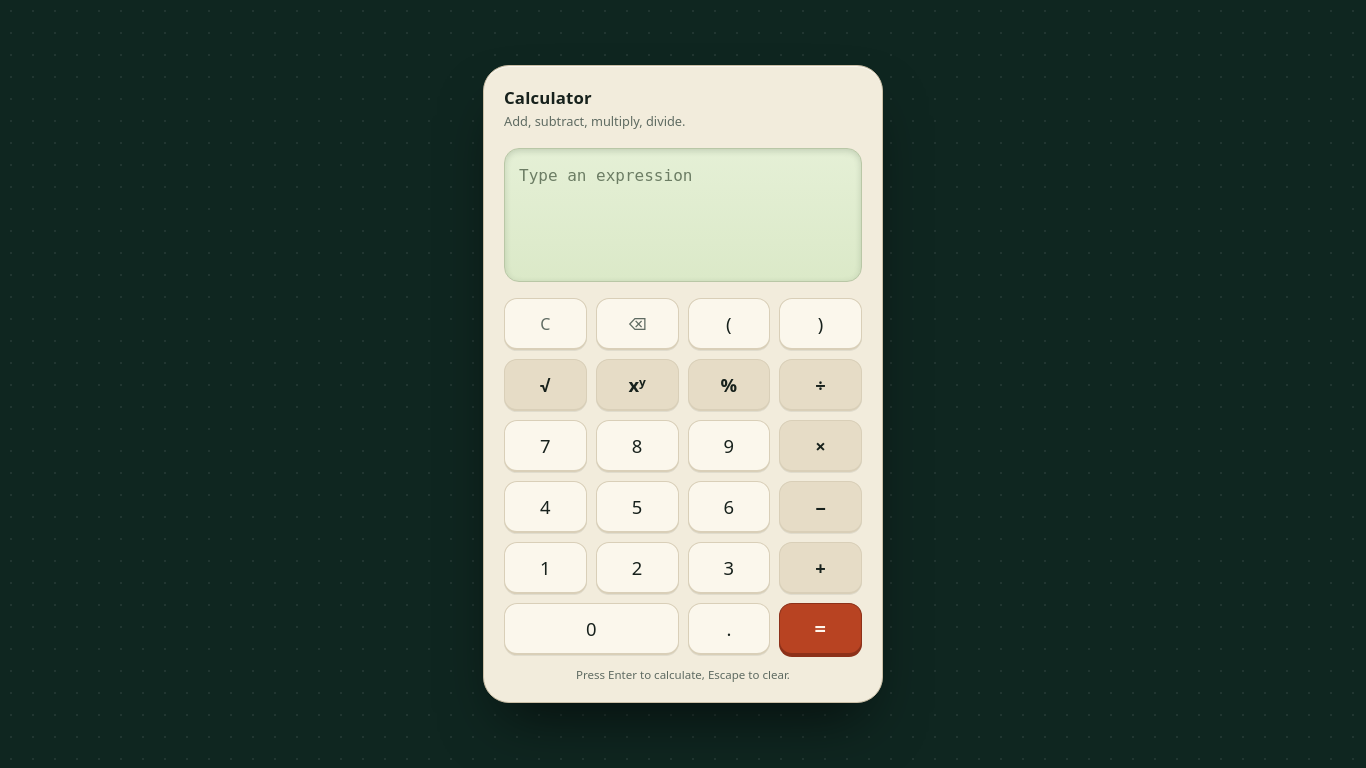
Test: Calculator › evaluates exponentiation from the keypad
The width and height of the screenshot is (1366, 768).
Click the button "2": (637, 568) left=596, top=542, right=679, bottom=594
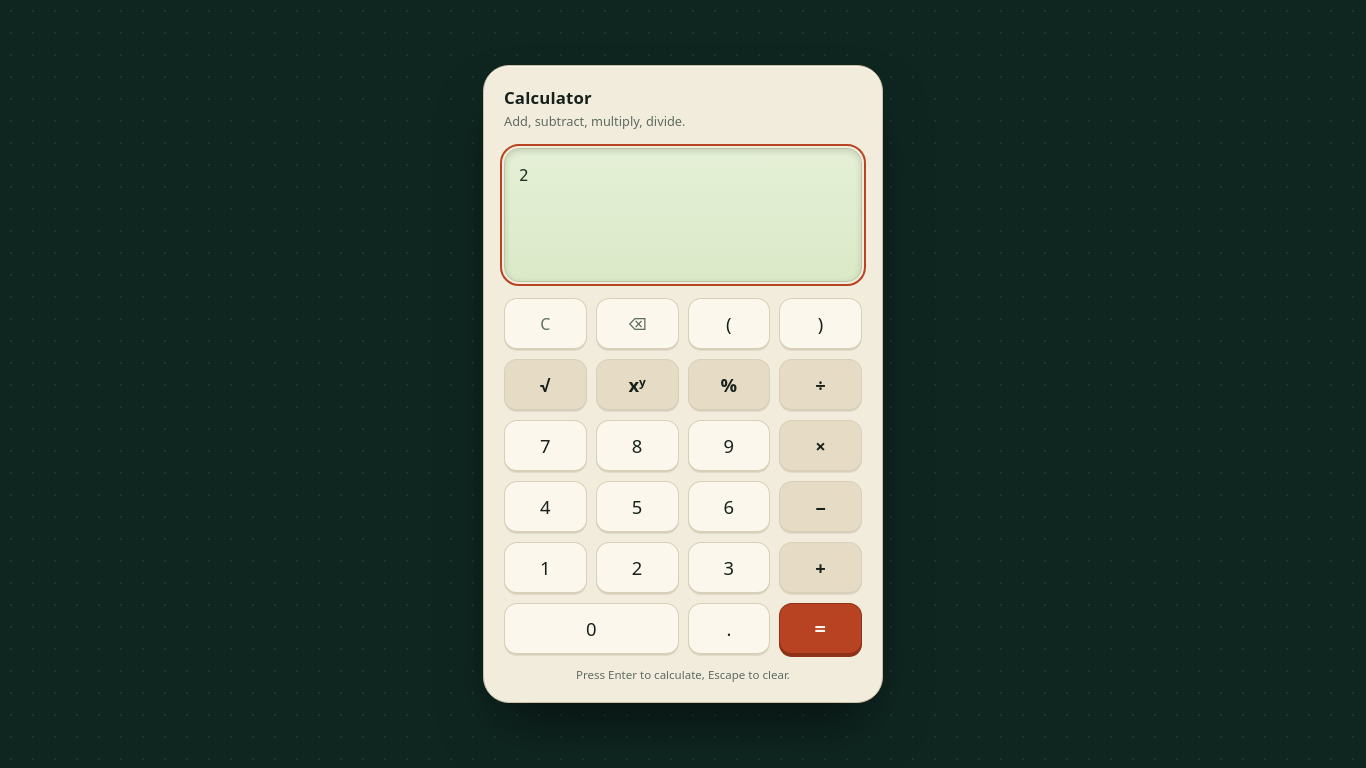
Click the button with aria-label "Exponentiation": (637, 385) left=596, top=359, right=679, bottom=411
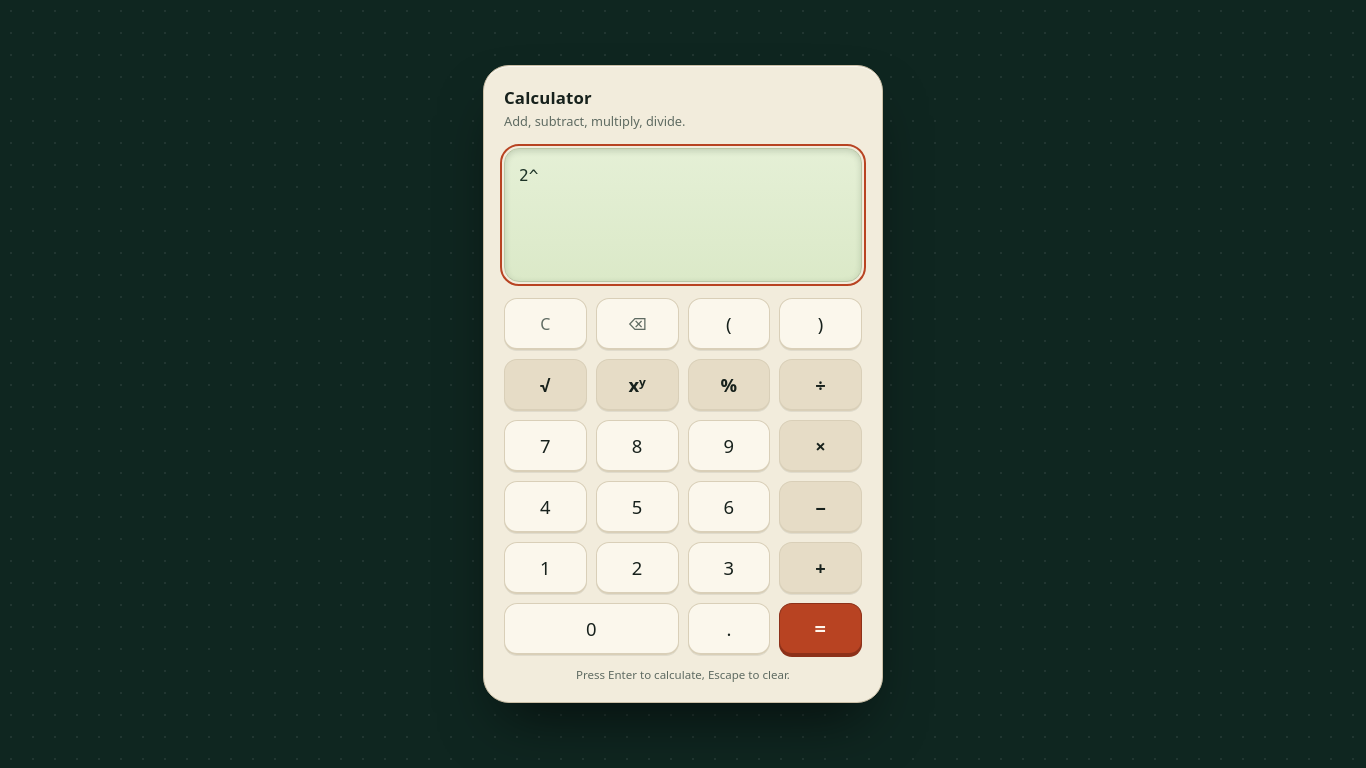
Click the button "1": (545, 568) left=504, top=542, right=587, bottom=594
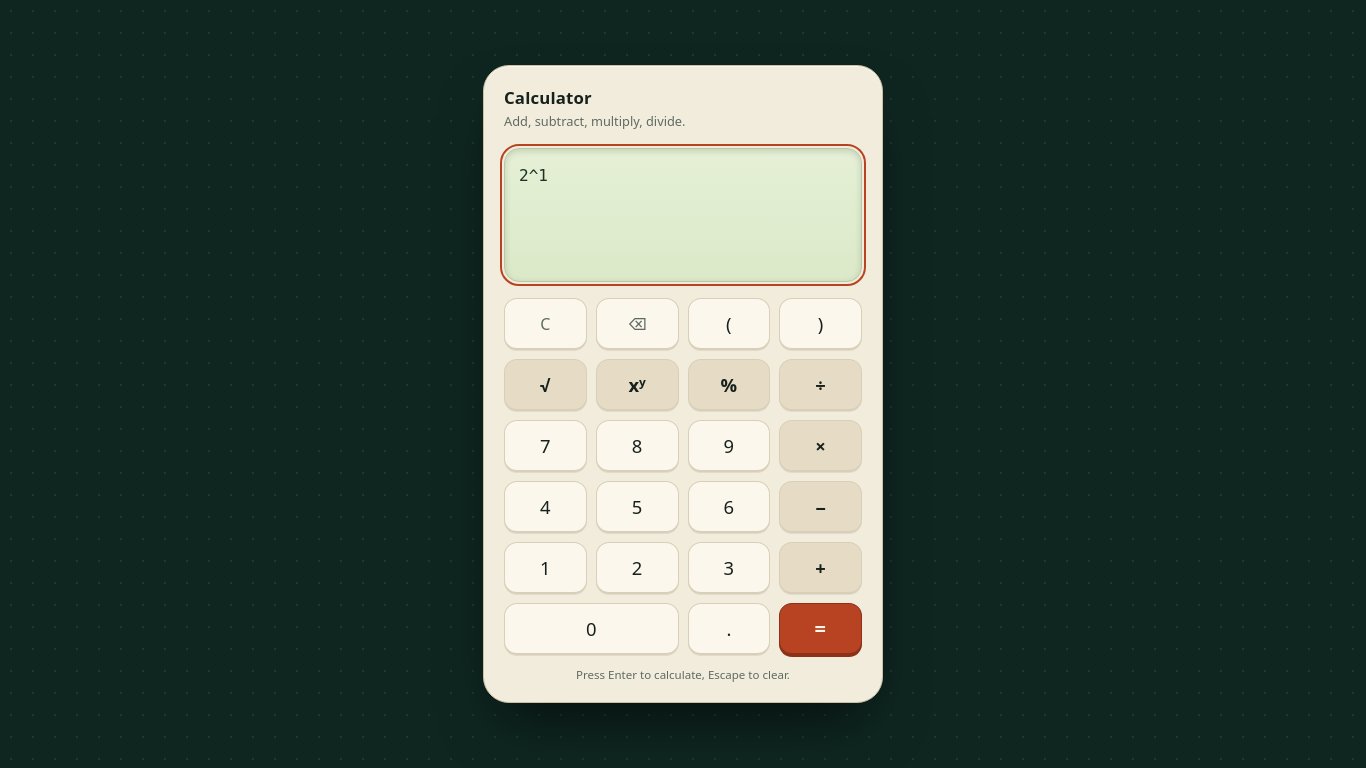
Click the button "0": (591, 629) left=504, top=603, right=678, bottom=655
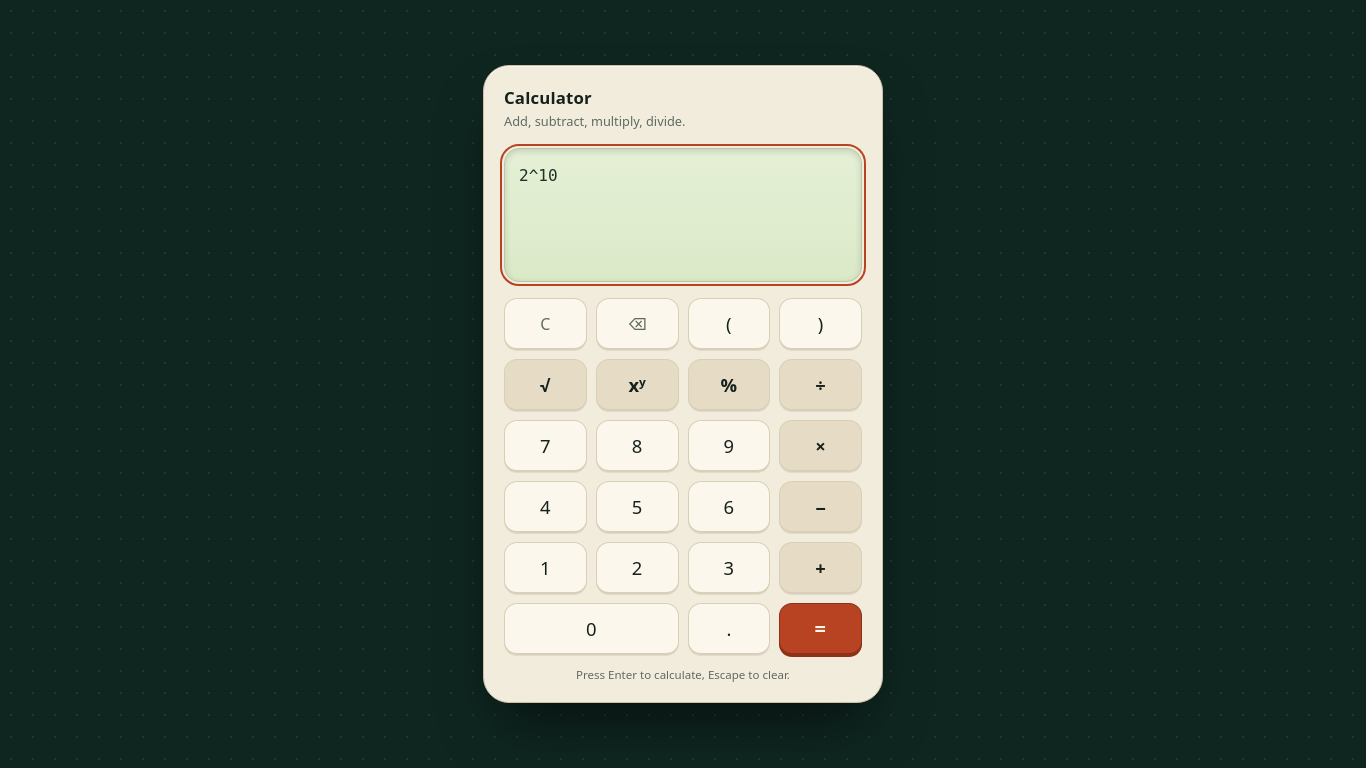
Click the button named "Equals": (821, 629) left=779, top=603, right=862, bottom=655
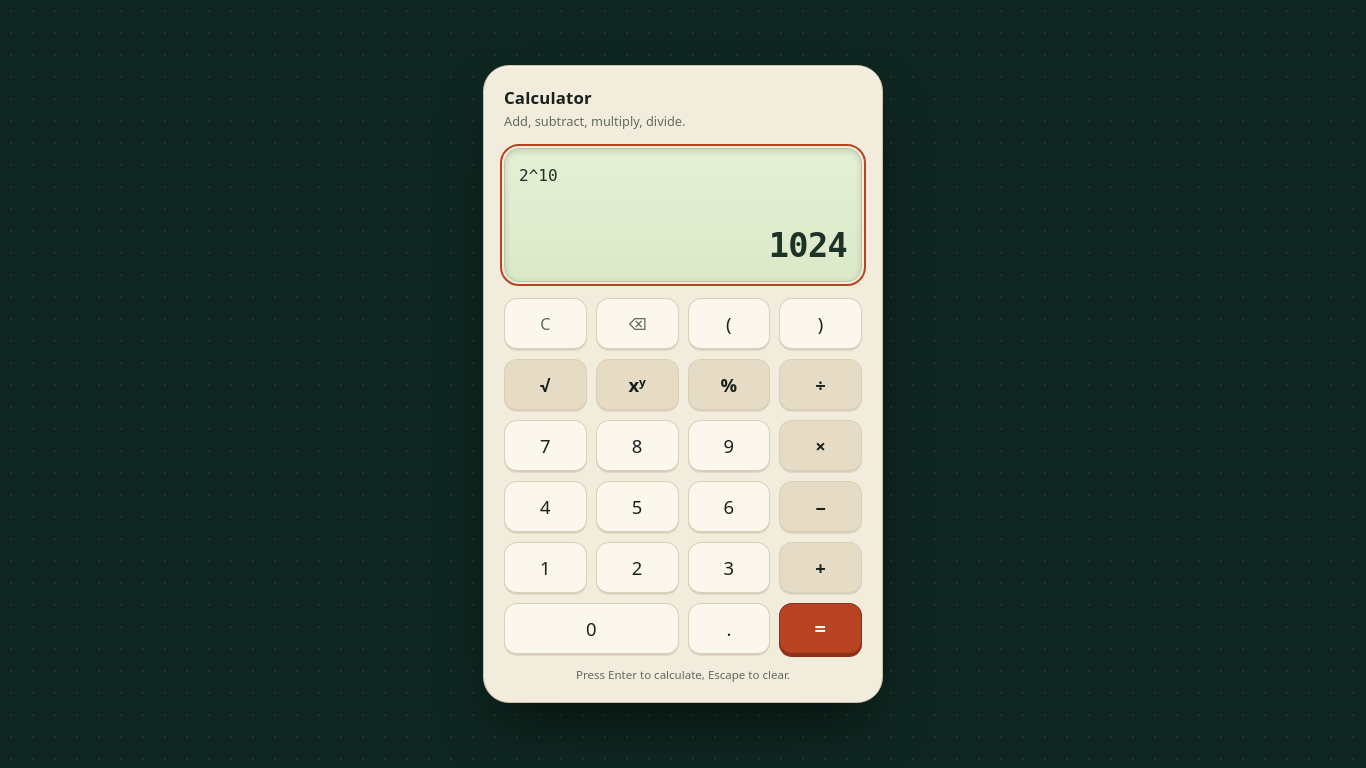
Check: the field named "expression" holds "2^10", box left=519, top=163, right=847, bottom=189
Check: the message named "Result" reads "1024", box left=769, top=226, right=847, bottom=265
